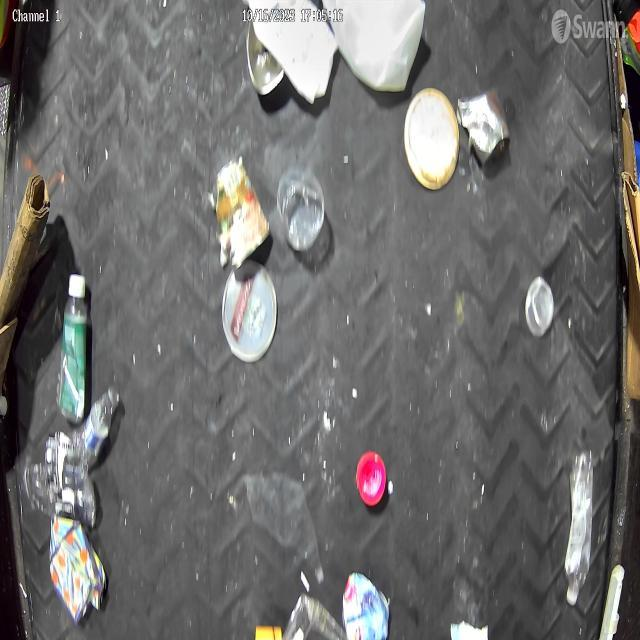milk_jug: (330, 0, 428, 97), (240, 0, 339, 96)
plastic_bottle: (18, 443, 104, 522), (567, 448, 601, 606), (63, 272, 94, 418), (74, 388, 124, 459)
